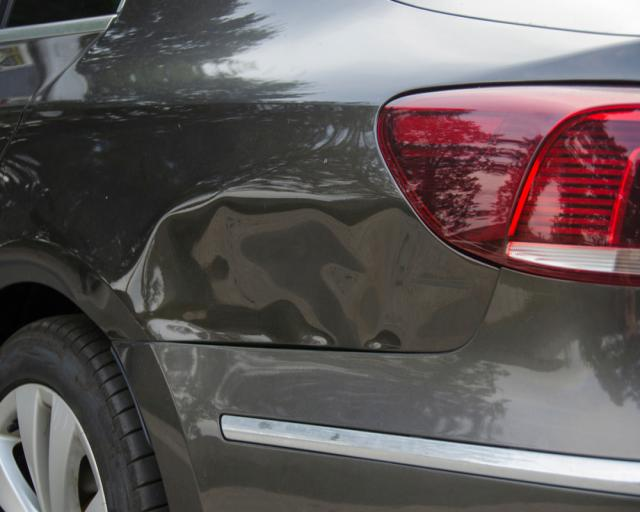dent: (124, 195, 492, 352)
